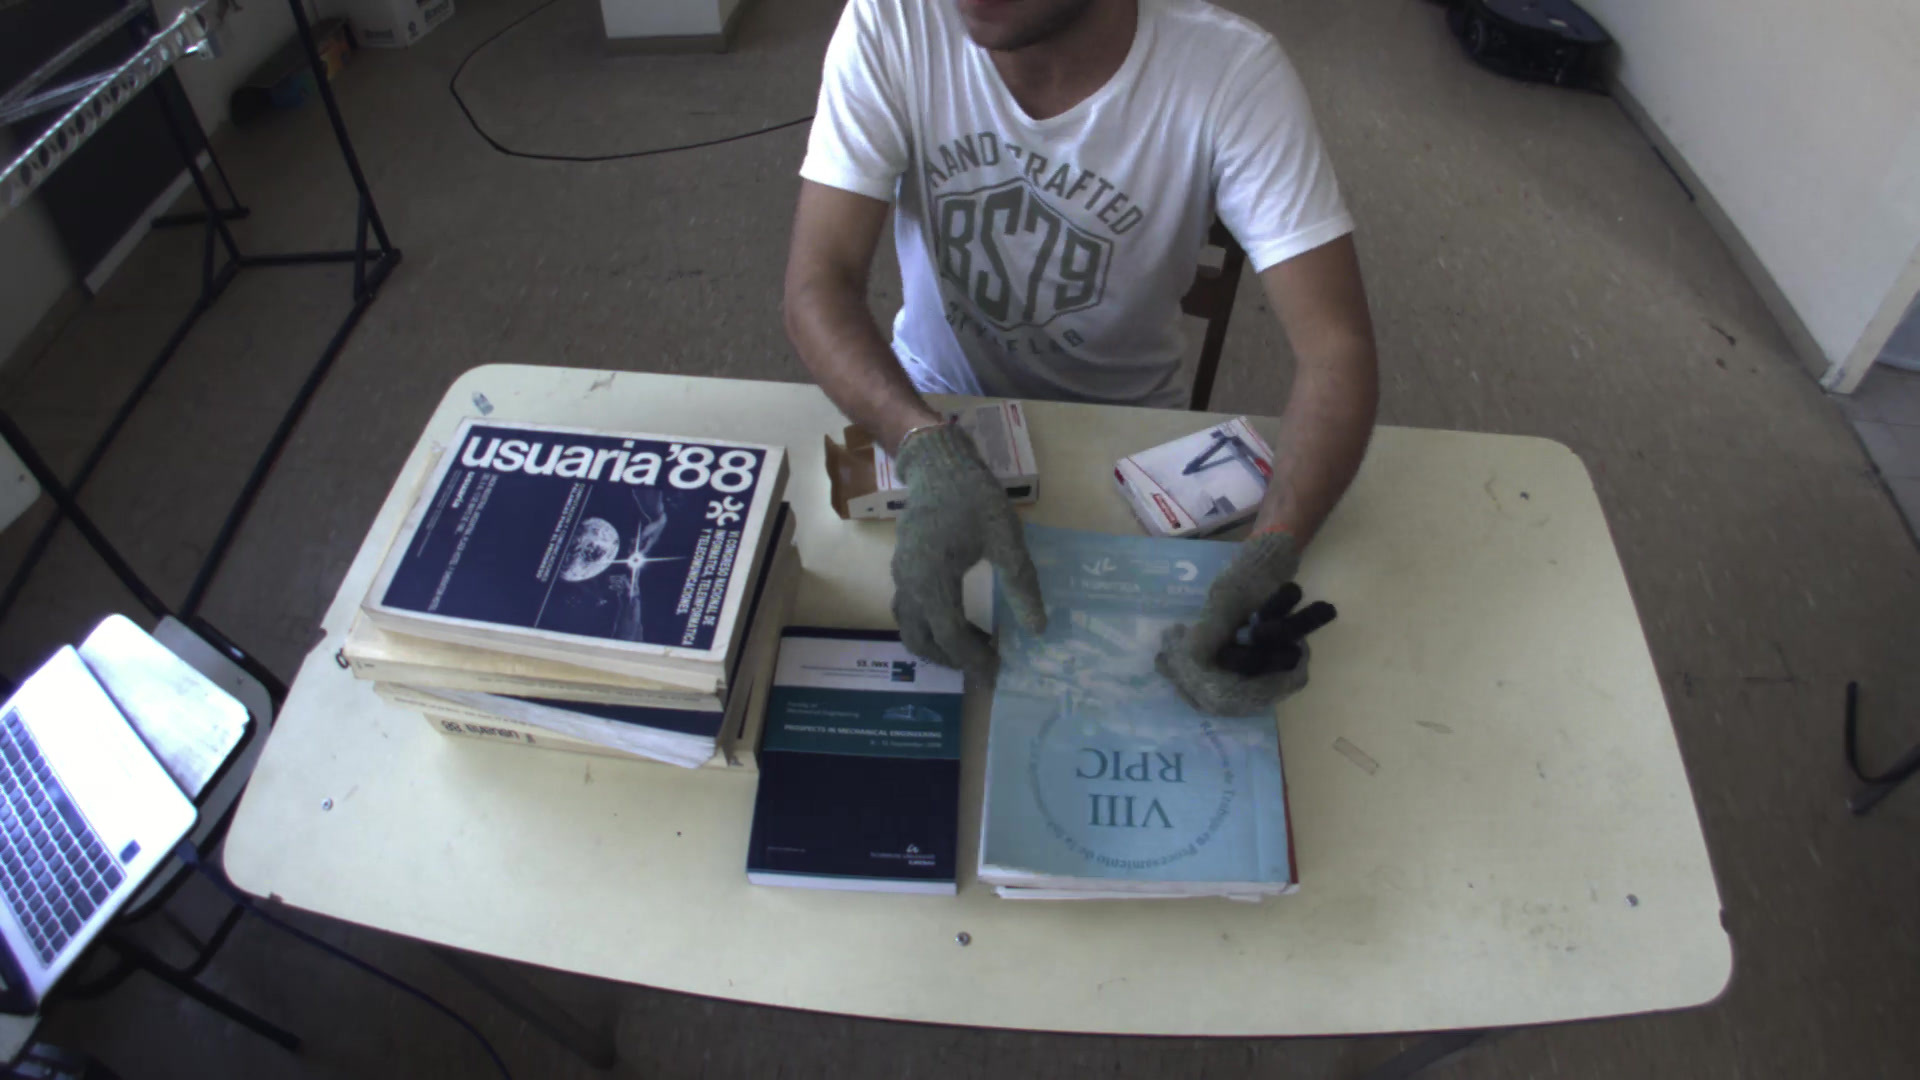hand: (872, 418, 1054, 673), (1160, 521, 1325, 720)
